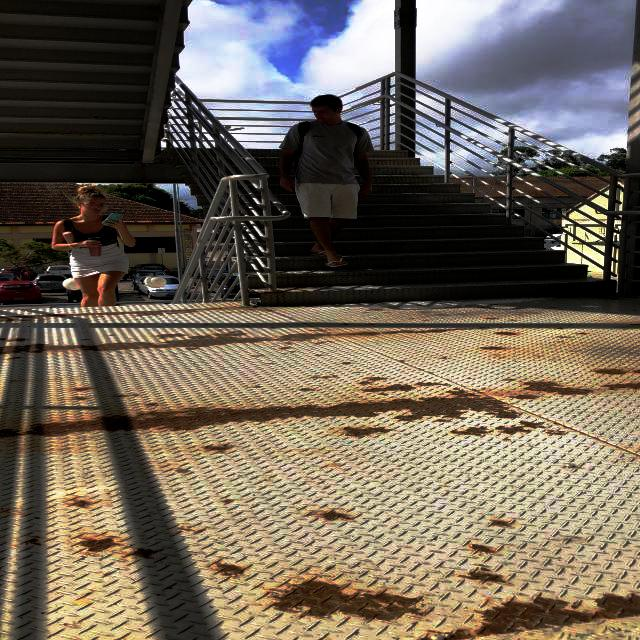Corrosion: (0, 396, 526, 439), (0, 330, 335, 355), (473, 593, 640, 637), (264, 579, 428, 621), (0, 308, 223, 322), (521, 380, 594, 395), (73, 535, 124, 554), (382, 327, 493, 334), (495, 421, 547, 435), (458, 569, 506, 583), (213, 560, 245, 578), (343, 427, 394, 438), (426, 629, 475, 640), (451, 425, 493, 436), (361, 384, 417, 392), (124, 547, 161, 559), (539, 294, 617, 299), (319, 511, 355, 521), (598, 382, 640, 390), (446, 389, 480, 398), (172, 525, 206, 534), (468, 544, 496, 554), (18, 536, 46, 546), (591, 368, 628, 375), (204, 444, 235, 452), (70, 498, 93, 508), (335, 331, 380, 336), (508, 394, 539, 400), (415, 381, 450, 386), (156, 333, 185, 339), (490, 520, 512, 527), (586, 296, 620, 300), (480, 346, 507, 351), (545, 430, 567, 436), (0, 338, 29, 342), (365, 376, 387, 381), (74, 387, 97, 391), (494, 331, 517, 335), (572, 601, 582, 609), (471, 389, 484, 395), (310, 376, 332, 379), (300, 387, 316, 391), (432, 419, 453, 422), (145, 402, 159, 406), (358, 381, 371, 385), (420, 636, 433, 640), (480, 567, 490, 572), (324, 565, 334, 570), (367, 308, 383, 311), (256, 291, 261, 300), (73, 397, 88, 400), (114, 394, 129, 397), (62, 131, 73, 135), (553, 421, 563, 425), (632, 369, 640, 374), (9, 356, 21, 359), (313, 341, 325, 344), (252, 354, 264, 357), (485, 317, 497, 320), (562, 425, 571, 429), (223, 499, 232, 503), (102, 572, 111, 576), (629, 323, 640, 326), (576, 332, 587, 335), (292, 287, 308, 289), (265, 309, 275, 312), (378, 392, 388, 395), (434, 314, 449, 316), (626, 297, 640, 299), (419, 311, 432, 313), (453, 387, 461, 390), (251, 386, 262, 388), (279, 347, 290, 349), (558, 336, 569, 338), (132, 393, 139, 396), (175, 531, 182, 534), (341, 362, 351, 364), (476, 564, 485, 566), (86, 592, 92, 595), (284, 342, 292, 344), (399, 360, 404, 363), (470, 307, 485, 308), (63, 623, 68, 626), (315, 354, 322, 356), (332, 375, 339, 377), (367, 323, 374, 325), (509, 319, 516, 321), (504, 438, 511, 440), (556, 327, 563, 329), (270, 327, 276, 329), (355, 371, 361, 373), (423, 319, 429, 321), (217, 329, 222, 331), (428, 372, 433, 374), (481, 388, 486, 390), (340, 324, 349, 325), (309, 330, 317, 331), (110, 334, 114, 336), (82, 339, 90, 340), (267, 363, 275, 364), (490, 304, 498, 305), (509, 379, 516, 380), (611, 312, 618, 313), (239, 311, 245, 312), (326, 341, 332, 342), (319, 330, 324, 331)
